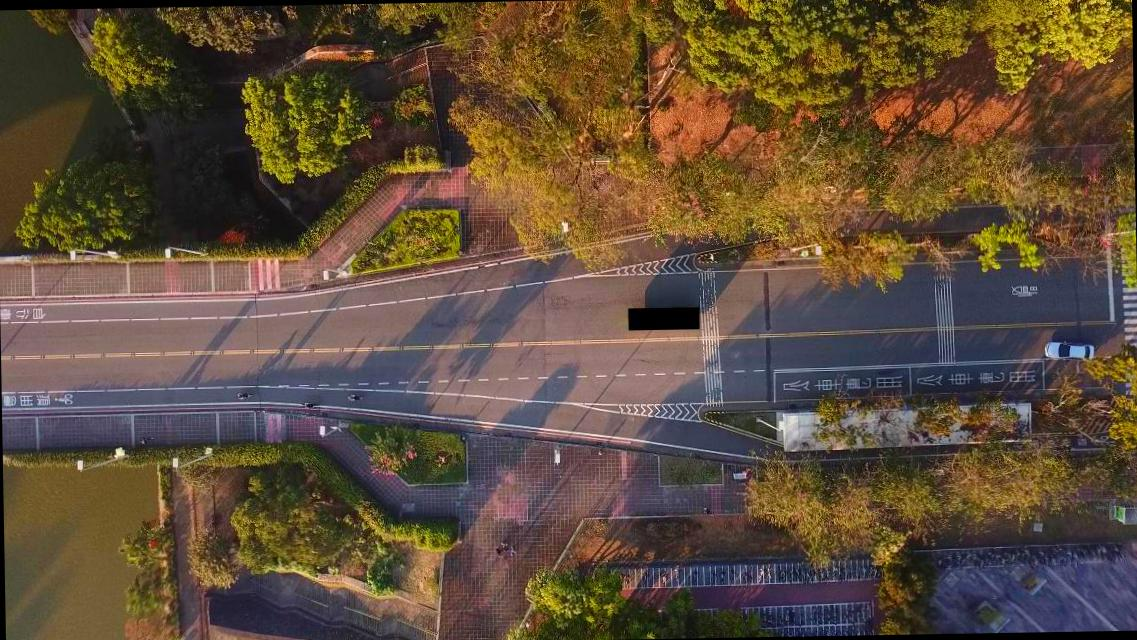vehicle: (1044, 339, 1096, 361)
